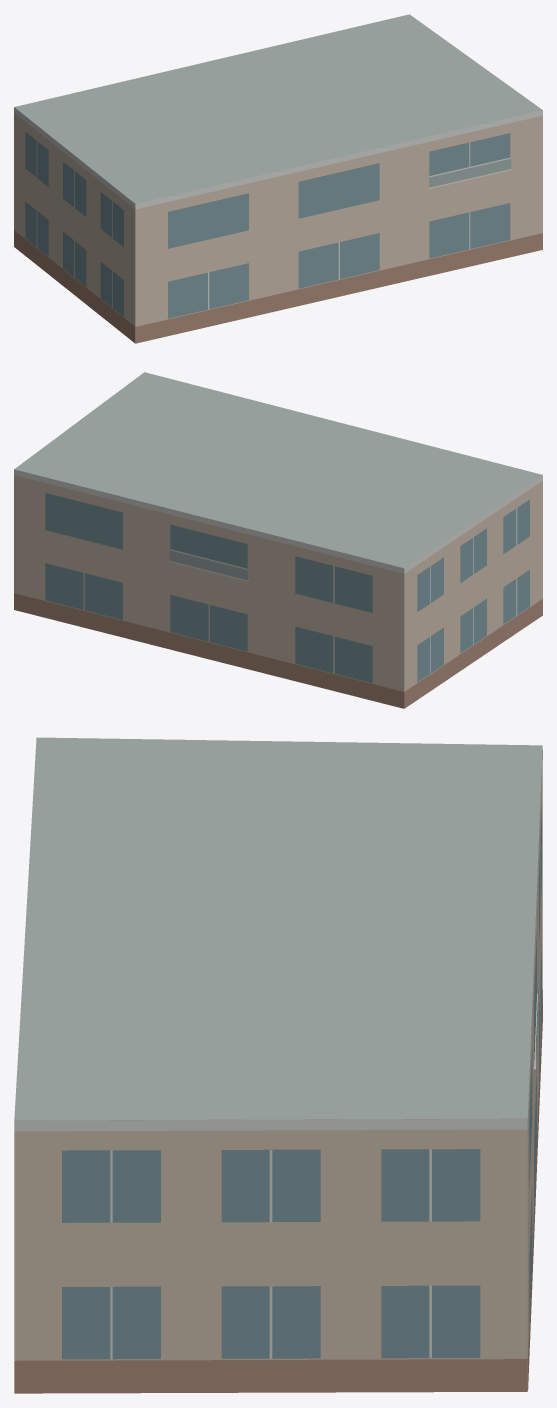
Rendered from survey-upis-32537041.glb.
3 views of the same model, one above another, from view 1: azimuth 30°, elevation 25°; view 2: azimuth 150°, elevation 25°; view 3: azimuth 270°, elevation 25° (orthographic). The views are drawn at different scales.
Visible parts, largest first — view 1: survey-upis-32537041.tmp; view 2: survey-upis-32537041.tmp; view 3: survey-upis-32537041.tmp.
Boxes of the visible parts, bbox=[...] form: survey-upis-32537041.tmp: bbox=[14, 14, 542, 343]; survey-upis-32537041.tmp: bbox=[14, 372, 542, 708]; survey-upis-32537041.tmp: bbox=[14, 737, 542, 1393].
Size of the model in its own units: 18.36 by 6.1 by 10.71.
